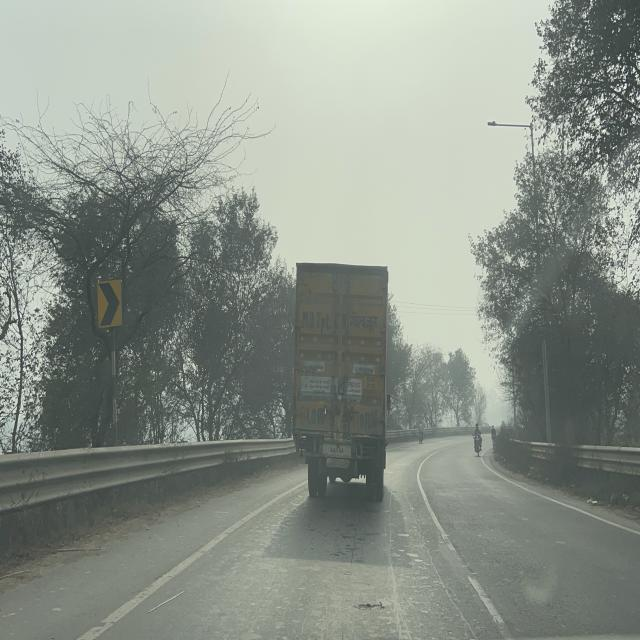TURN_RIGHT: (96, 278, 123, 330)
